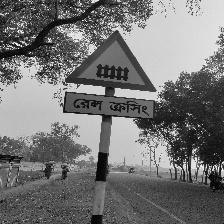Rail-crossing: (63, 30, 159, 119)
